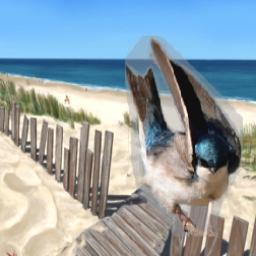Swallow: (125, 37, 243, 238)
